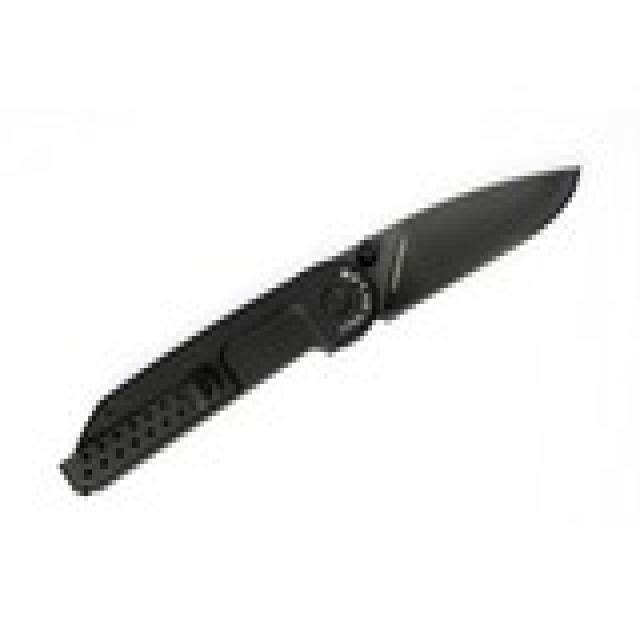Knife: (58, 162, 582, 514)
